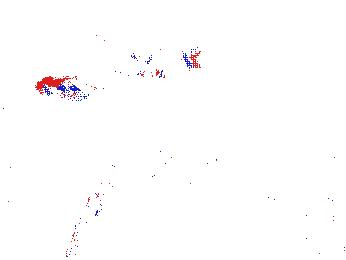X-ray fish: (142, 140, 171, 181)
glassfish: (172, 130, 276, 193), (67, 162, 123, 255)
red belly glassfish: (37, 77, 97, 102), (113, 64, 166, 84)
redtail glassfish: (129, 44, 201, 72)
